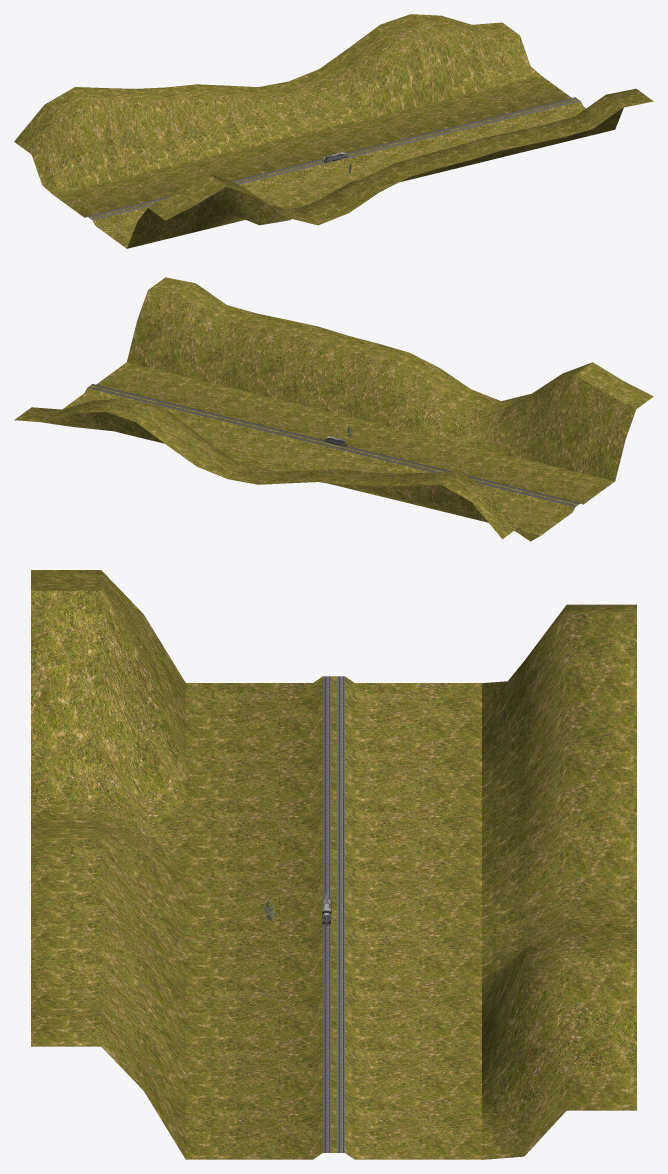
The model's file is wartrain_map.FBX.
3 renders of one model, top to bottom at view 1: azimuth 30°, elevation 25°; view 2: azimuth 150°, elevation 25°; view 3: azimuth 270°, elevation 25°, orthographic. The views are drawn at different scales.
Visible parts, largest first — view 1: wartrain_map; view 2: wartrain_map; view 3: wartrain_map.
Part boxes in pixels (<box>): wartrain_map: <box>14,14,653,248</box>; wartrain_map: <box>14,277,653,541</box>; wartrain_map: <box>31,570,636,1159</box>.
Bounding box in the file's own units: 400 × 215 × 60.14.
